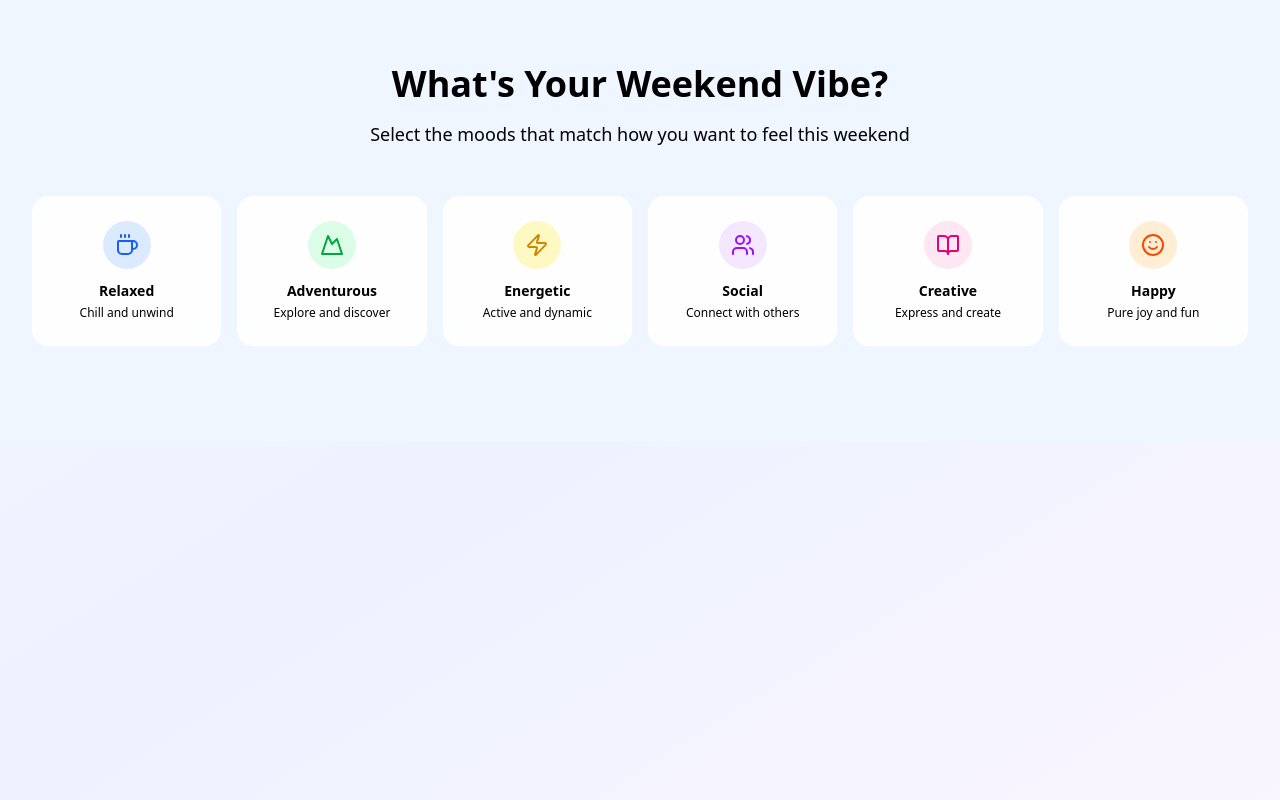
Test: MoodSelector › should show count of selected moods in button
Click the text "Relaxed": x=127, y=271 [80,221,174,321]
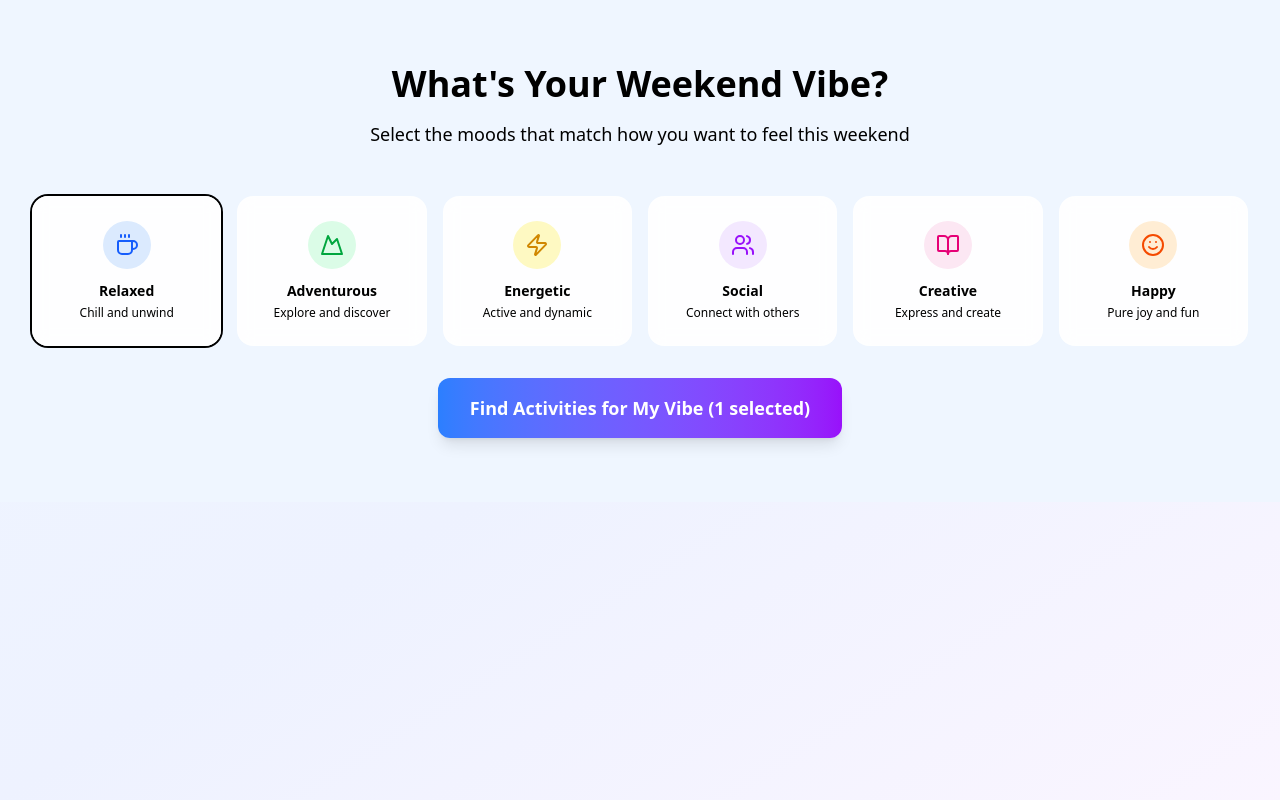
Click the text "Energetic": x=537, y=271 [483,221,592,321]
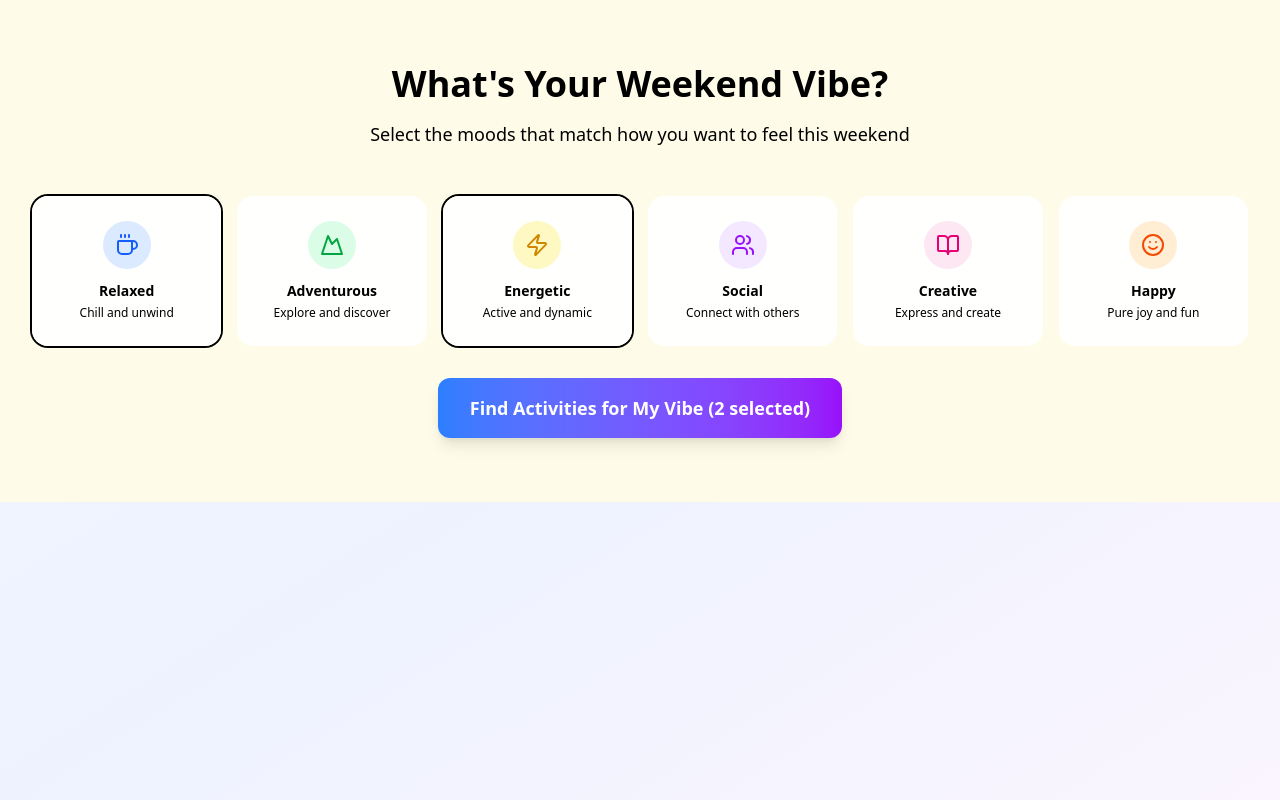
Expected: the text "Find Activities for My Vibe (2 selected)" is shown, [470,394,810,422]
